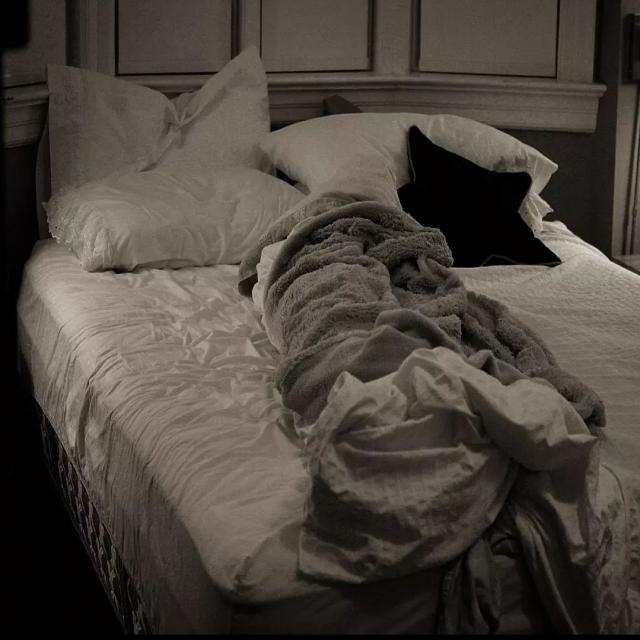bed: (52, 70, 639, 640)
